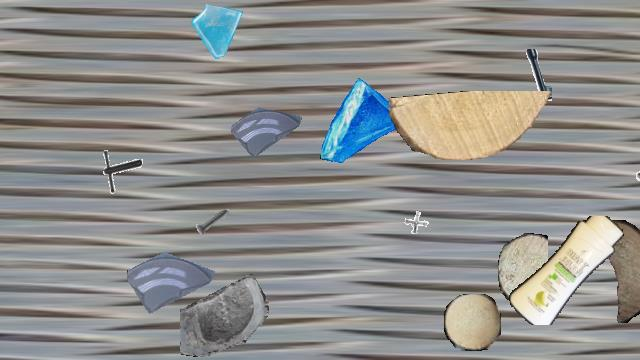glass: (318, 77, 412, 171), (180, 271, 268, 359), (127, 234, 215, 322), (231, 91, 303, 163), (190, 1, 248, 59)
metal: (494, 49, 552, 107), (94, 147, 142, 195), (192, 201, 234, 243), (398, 203, 438, 243), (635, 152, 640, 206)
plastic: (506, 216, 628, 324)
wood: (389, 91, 555, 159), (585, 220, 640, 322), (498, 233, 548, 305), (444, 294, 500, 350)
